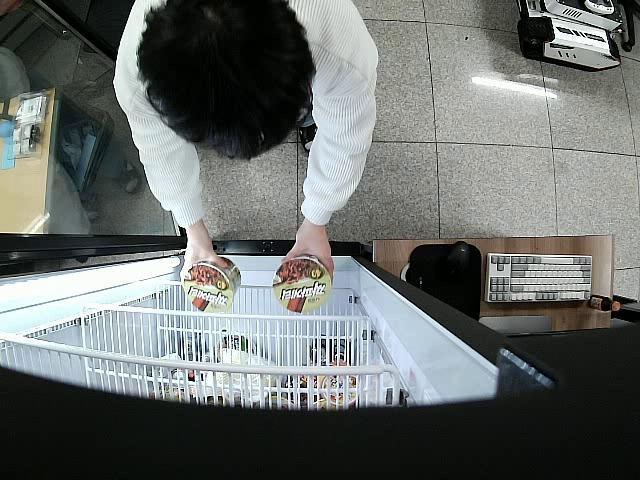03_chapagetti_L: (272, 258, 331, 314), (184, 258, 242, 313)
